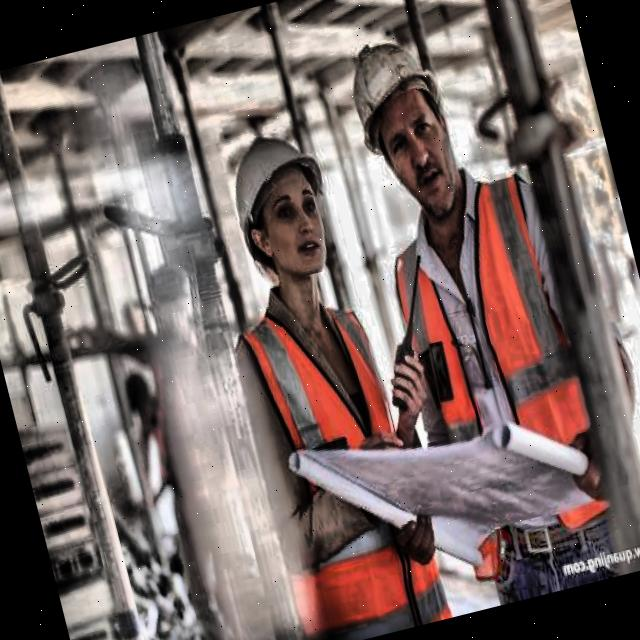helmet: (329, 0, 494, 252), (204, 94, 362, 328)
